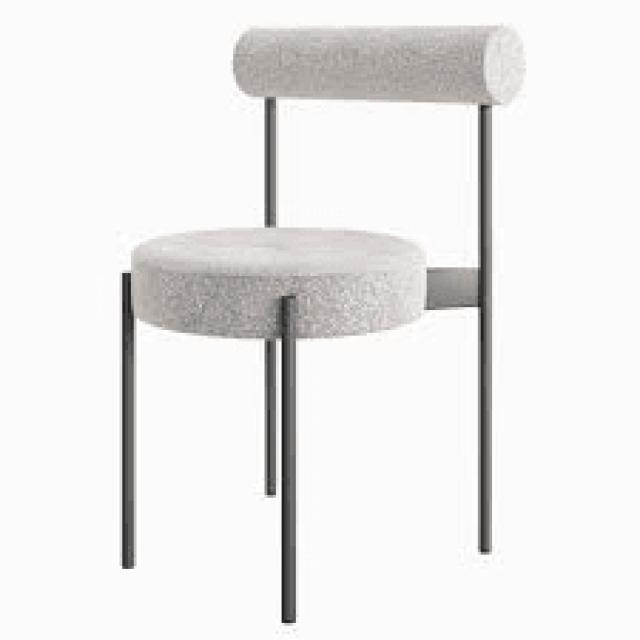chair: (113, 18, 532, 626), (130, 27, 522, 336)
